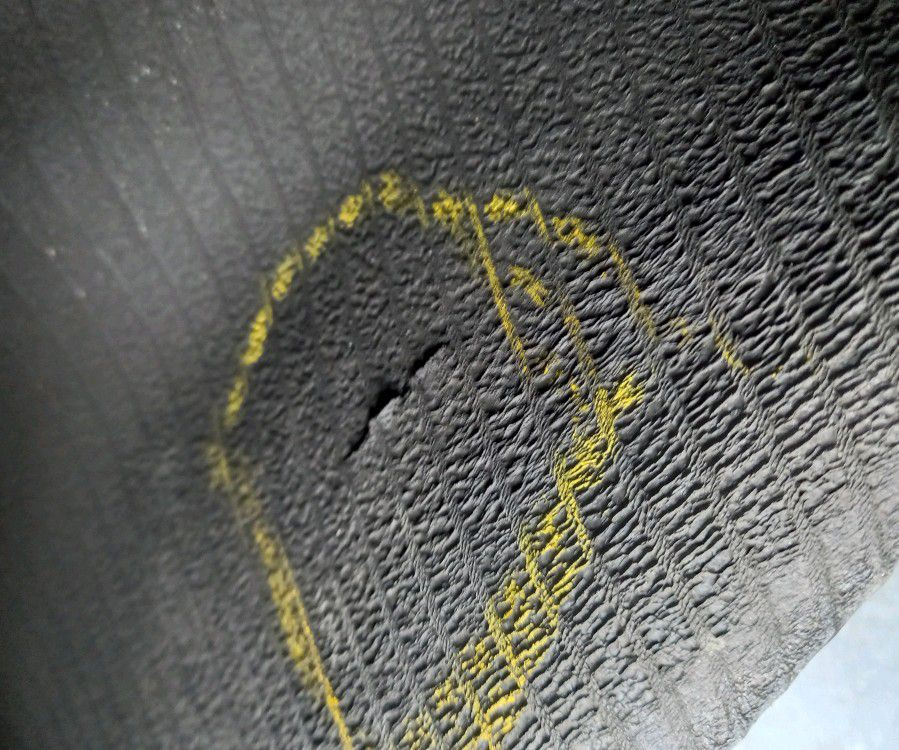cut: (333, 331, 463, 480)
